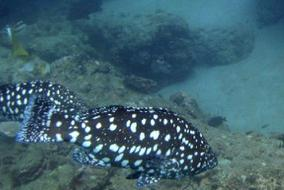Serranidae -Groupers-: (15, 92, 220, 188)
